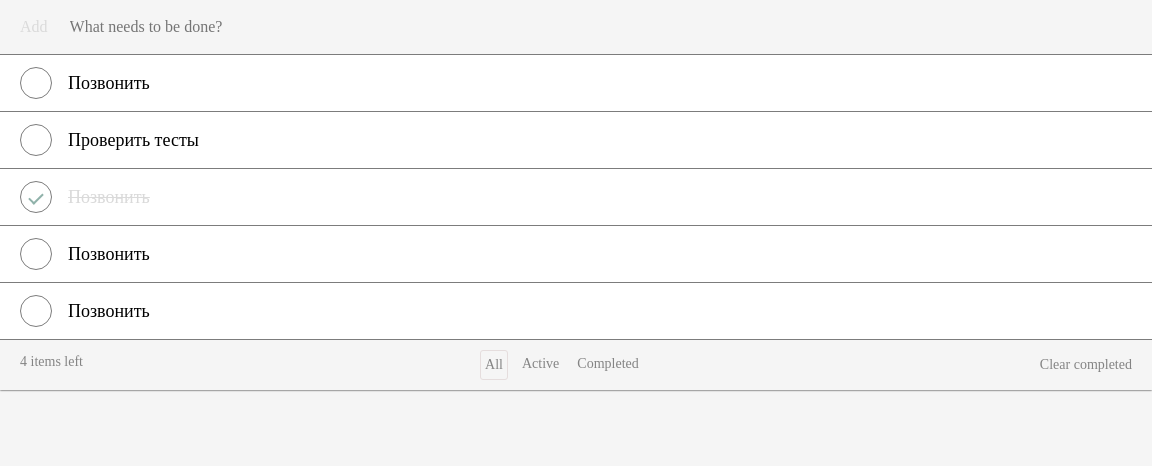
TodoList Component › adds a new task correctly
This screenshot has width=1152, height=466.
Type "New Task" into the field with test id "todo-input" at (596, 27), box [60,10,1132,44]
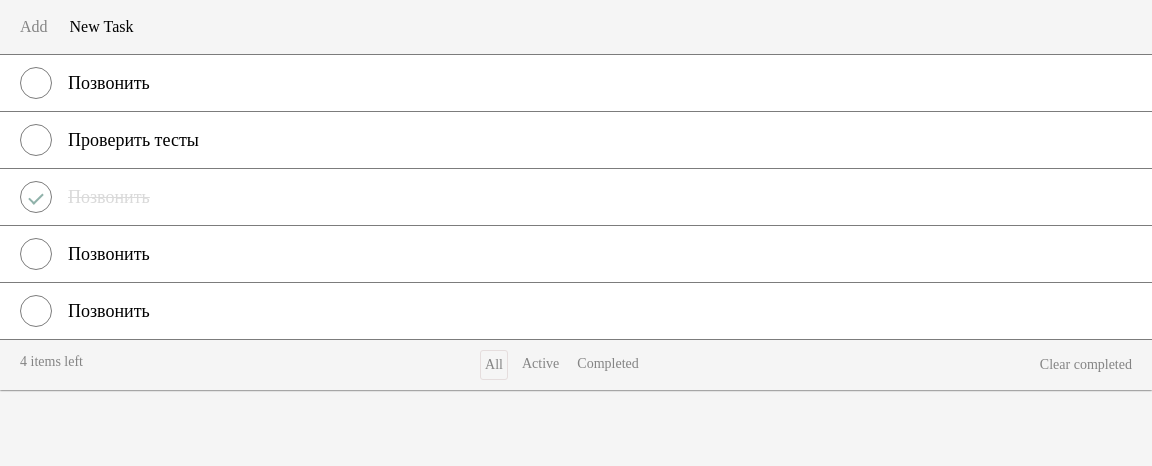
Click the button with test id "add-button" at (34, 27), box [20,10,48,44]
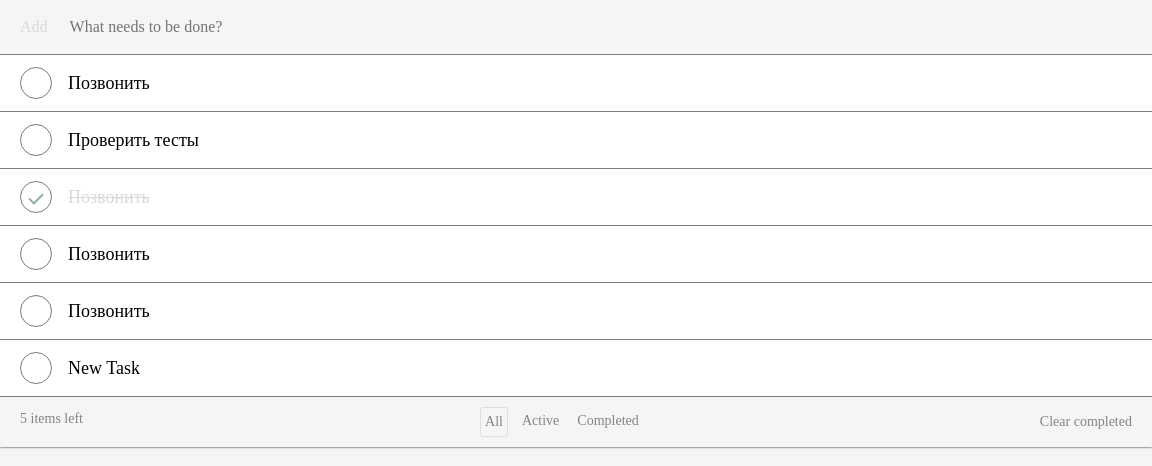
Check: the text "New Task" is shown, box [68,356,140,380]
